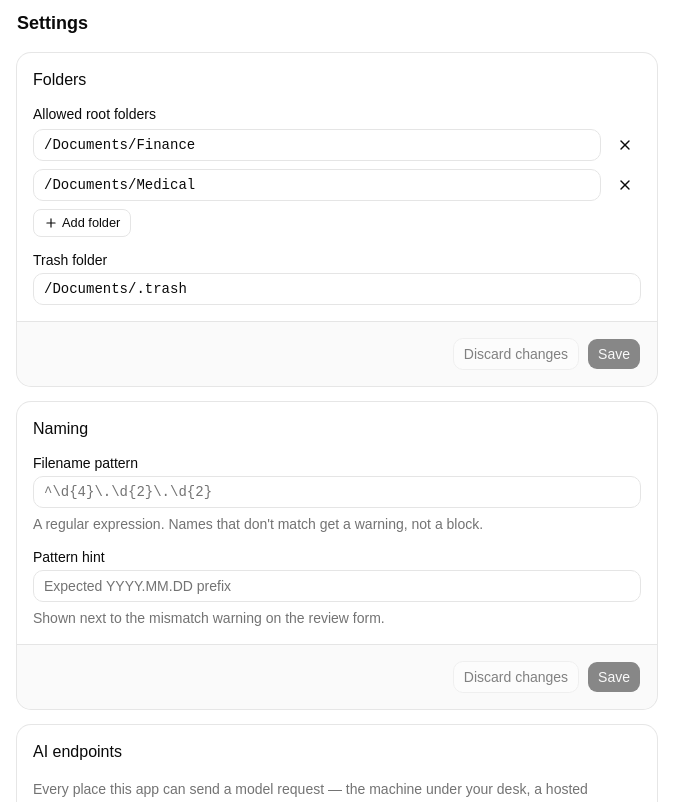
SettingsPage › flags a duplicate allowed root under the offending row
The image size is (675, 802).
Replace the text in the field named "Allowed root folder 1" with "/Documents/Medical" at coordinates (317, 145), box x1=33 y1=129 x2=601 y2=161
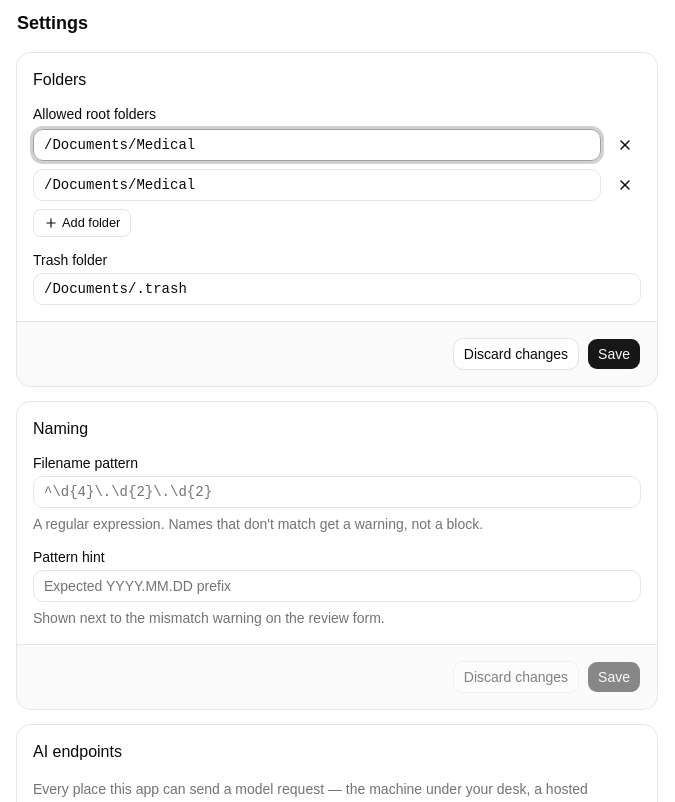
Folders validates on submit, not per-field (no `mode: "onChange"`) -- attempt a save.
Click the 1st button "Save" at coordinates (614, 354), box x1=587 y1=338 x2=641 y2=370
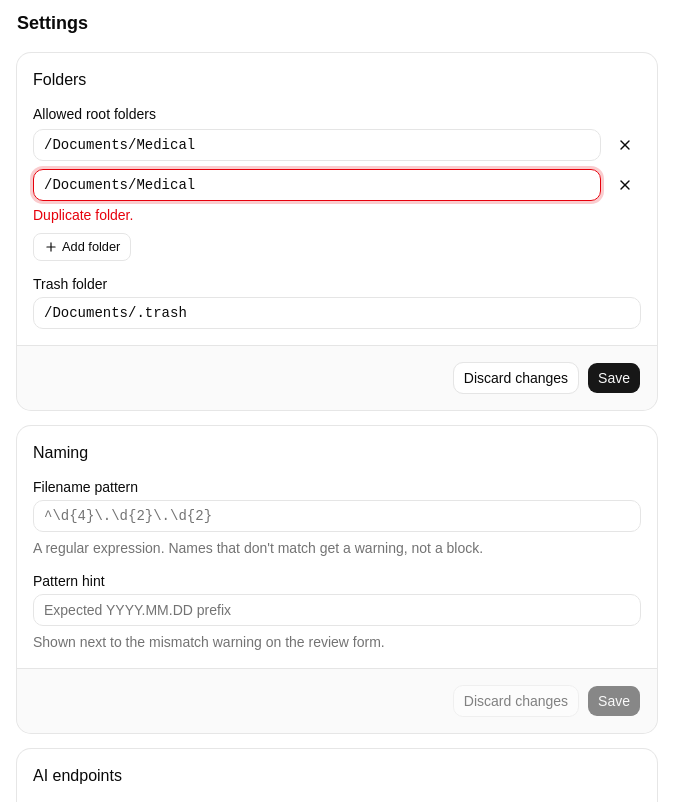
Result: the text "Duplicate folder." is shown at x1=33 y1=207 x2=133 y2=223
